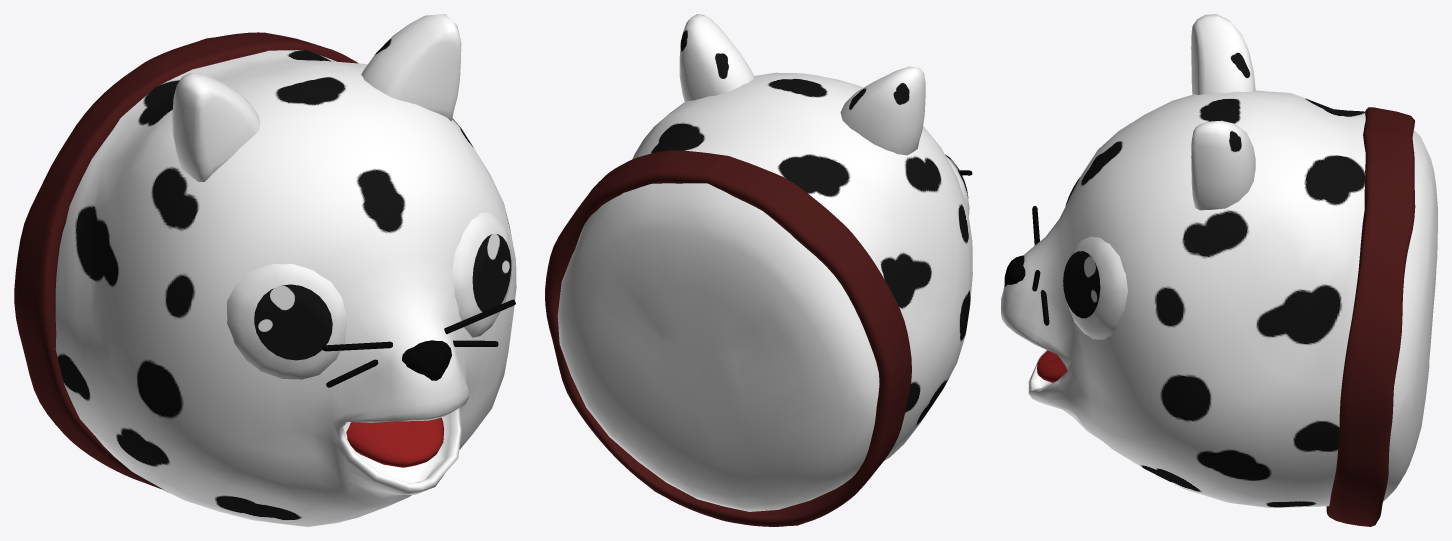
The picture shows the model from 3 angles, left to right: view 1: azimuth 30°, elevation 25°; view 2: azimuth 150°, elevation 25°; view 3: azimuth 270°, elevation 25°; orthographic projection. The views are drawn at different scales.
Parts seen in each view (by area): view 1: polySurface48; view 2: polySurface48; view 3: polySurface48.
Boxes of the visible parts, bbox=[...] form: polySurface48: bbox=[14, 14, 516, 526]; polySurface48: bbox=[545, 14, 972, 526]; polySurface48: bbox=[1001, 14, 1437, 526].
Bounding box in the file's own units: 41.54 × 48.2 × 43.85.
